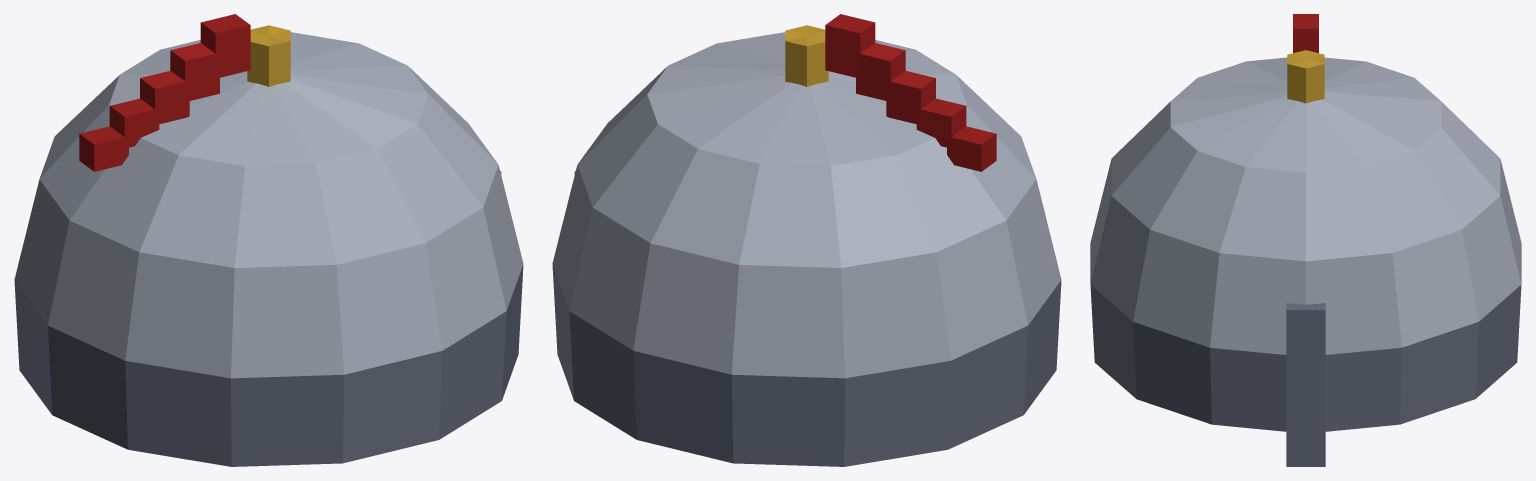
The model's file is i_helm.glb.
3 renders of one model, left to right at view 1: azimuth 30°, elevation 25°; view 2: azimuth 150°, elevation 25°; view 3: azimuth 270°, elevation 25°, orthographic. The views are drawn at different scales.
Visible parts, largest first — view 1: i_helm; view 2: i_helm; view 3: i_helm.
Boxes of the visible parts, left/top/right/bottom form: i_helm: left=14, top=14, right=523, bottom=466; i_helm: left=552, top=14, right=1061, bottom=466; i_helm: left=1090, top=14, right=1521, bottom=466.
Bounding box in the file's own units: 1.02 × 0.85 × 0.9944.
